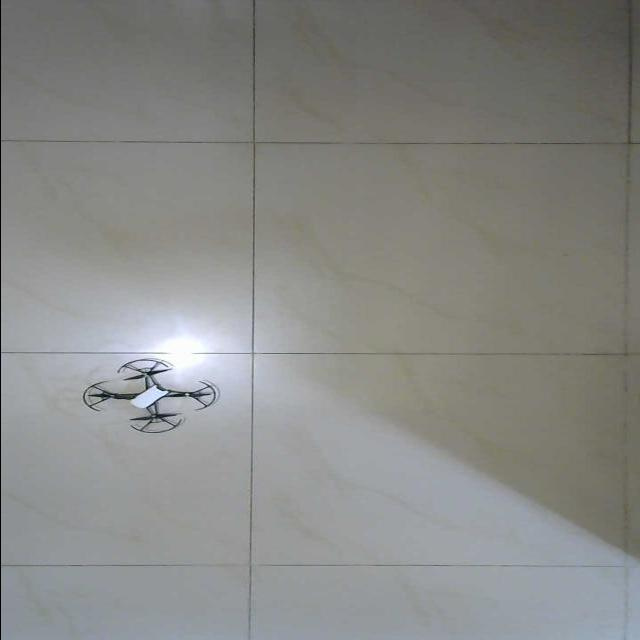drone: (79, 358, 216, 433)
